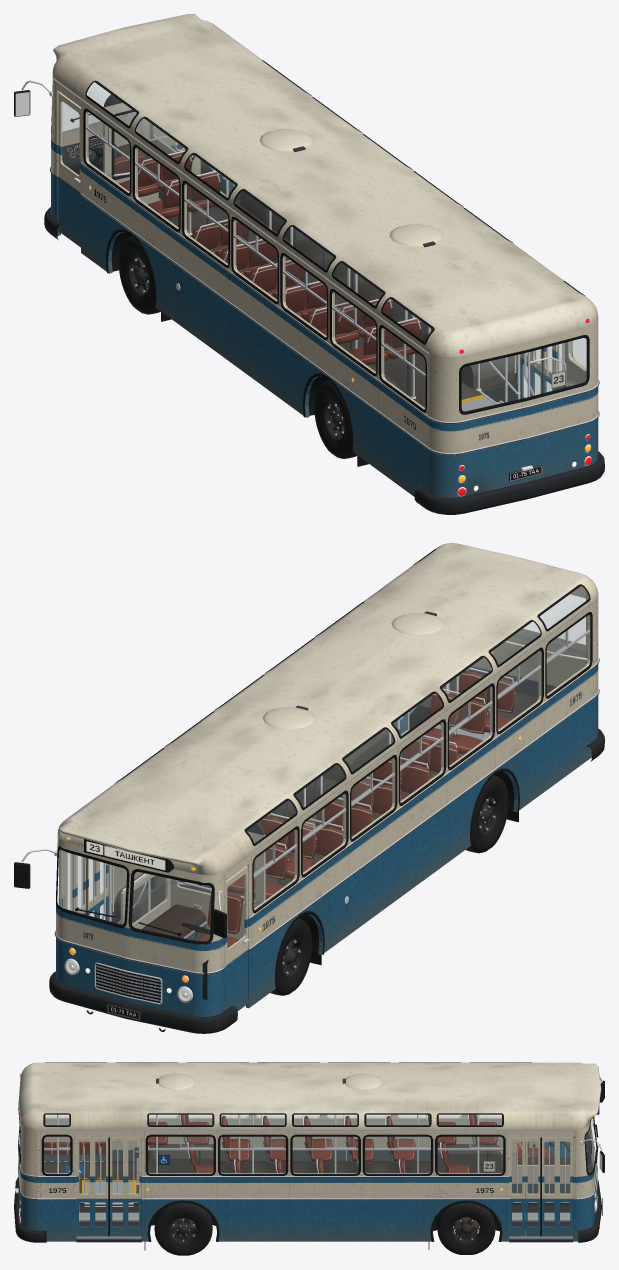
The model's file is bus.glb.
The picture shows the model from 3 angles, top to bottom: view 1: azimuth 30°, elevation 25°; view 2: azimuth 150°, elevation 25°; view 3: azimuth 270°, elevation 25°; orthographic projection. The views are drawn at different scales.
Parts seen in each view (by area): view 1: Body_Roof_RadiusedShell, Body_Flank_Left_DriverDoor, Body_RearEnd, Glass_SideWindows_SlidingVents, Windows_RubberGaskets_HSection, Seats_Backrests_BurgundyDermatine, Glass_RearWindow, Glass_RoofEdge_Skylights, Interior_Floor_RibbedRubber, Body_Moldings_Aluminium_Gutters, Bumper_Rear_WrapAround, Tyre_10.00R20_I281_Outer (+13 smaller); view 2: Body_Roof_RadiusedShell, Body_Flank_Left_DriverDoor, Glass_SideWindows_SlidingVents, Body_FrontEnd_Panoramic, Windows_RubberGaskets_HSection, Seats_Backrests_BurgundyDermatine, Glass_Windscreen_V_Panoramic, Glass_RoofEdge_Skylights, Body_RearEnd_InnerLining, Body_Moldings_Aluminium_Gutters, Bumper_Front_WrapAround, Tyre_10.00R20_I281_Outer (+19 smaller); view 3: Body_Roof_RadiusedShell, Body_Flank_Right_2Doors, Glass_SideWindows_SlidingVents, Body_Flank_Left_DriverDoor, Windows_RubberGaskets_HSection, Tyre_10.00R20_I281_Outer, Seats_Cushions_BurgundyDermatine, Glass_RoofEdge_Skylights, Interior_Floor_RibbedRubber, Interior_WheelHousing_Podiums, Body_Moldings_Aluminium_Gutters, Body_RearEnd (+35 smaller).
Part boxes in pixels (bbox=[...]): Body_Roof_RadiusedShell: bbox=[52, 14, 598, 357]; Body_Flank_Left_DriverDoor: bbox=[54, 77, 429, 496]; Body_RearEnd: bbox=[429, 318, 598, 497]; Glass_SideWindows_SlidingVents: bbox=[87, 112, 585, 408]; Windows_RubberGaskets_HSection: bbox=[51, 60, 589, 414]; Seats_Backrests_BurgundyDermatine: bbox=[138, 151, 421, 356]; Glass_RearWindow: bbox=[462, 338, 585, 410]; Glass_RoofEdge_Skylights: bbox=[88, 83, 431, 341]; Interior_Floor_RibbedRubber: bbox=[166, 160, 517, 407]; Body_Moldings_Aluminium_Gutters: bbox=[50, 78, 598, 455]; Bumper_Rear_WrapAround: bbox=[414, 451, 604, 514]; Tyre_10.00R20_I281_Outer: bbox=[118, 236, 357, 458]; Body_Roof_RadiusedShell: bbox=[57, 543, 598, 875]; Body_Flank_Left_DriverDoor: bbox=[222, 600, 595, 1011]; Glass_SideWindows_SlidingVents: bbox=[254, 615, 588, 909]; Body_FrontEnd_Panoramic: bbox=[56, 836, 222, 1016]; Windows_RubberGaskets_HSection: bbox=[56, 549, 592, 944]; Seats_Backrests_BurgundyDermatine: bbox=[253, 671, 515, 879]; Glass_Windscreen_V_Panoramic: bbox=[58, 850, 211, 940]; Glass_RoofEdge_Skylights: bbox=[247, 586, 588, 842]; Body_RearEnd_InnerLining: bbox=[455, 587, 589, 697]; Body_Moldings_Aluminium_Gutters: bbox=[55, 601, 598, 974]; Bumper_Front_WrapAround: bbox=[49, 971, 237, 1033]; Tyre_10.00R20_I281_Outer: bbox=[270, 775, 508, 995]; Body_Roof_RadiusedShell: bbox=[19, 1062, 601, 1129]; Body_Flank_Right_2Doors: bbox=[38, 1129, 577, 1241]; Glass_SideWindows_SlidingVents: bbox=[44, 1115, 502, 1172]; Body_Flank_Left_DriverDoor: bbox=[44, 1114, 538, 1160]; Windows_RubberGaskets_HSection: bbox=[18, 1062, 597, 1175]; Tyre_10.00R20_I281_Outer: bbox=[154, 1202, 495, 1255]; Seats_Cushions_BurgundyDermatine: bbox=[148, 1121, 497, 1173]; Glass_RoofEdge_Skylights: bbox=[46, 1115, 501, 1124]; Interior_Floor_RibbedRubber: bbox=[44, 1161, 591, 1204]; Interior_WheelHousing_Podiums: bbox=[148, 1144, 502, 1173]; Body_Moldings_Aluminium_Gutters: bbox=[18, 1130, 597, 1199]; Body_RearEnd: bbox=[19, 1105, 37, 1230].
Size of the model in its own units: 3.24 by 3.01 by 10.76.
62 materials, 30 textured.
